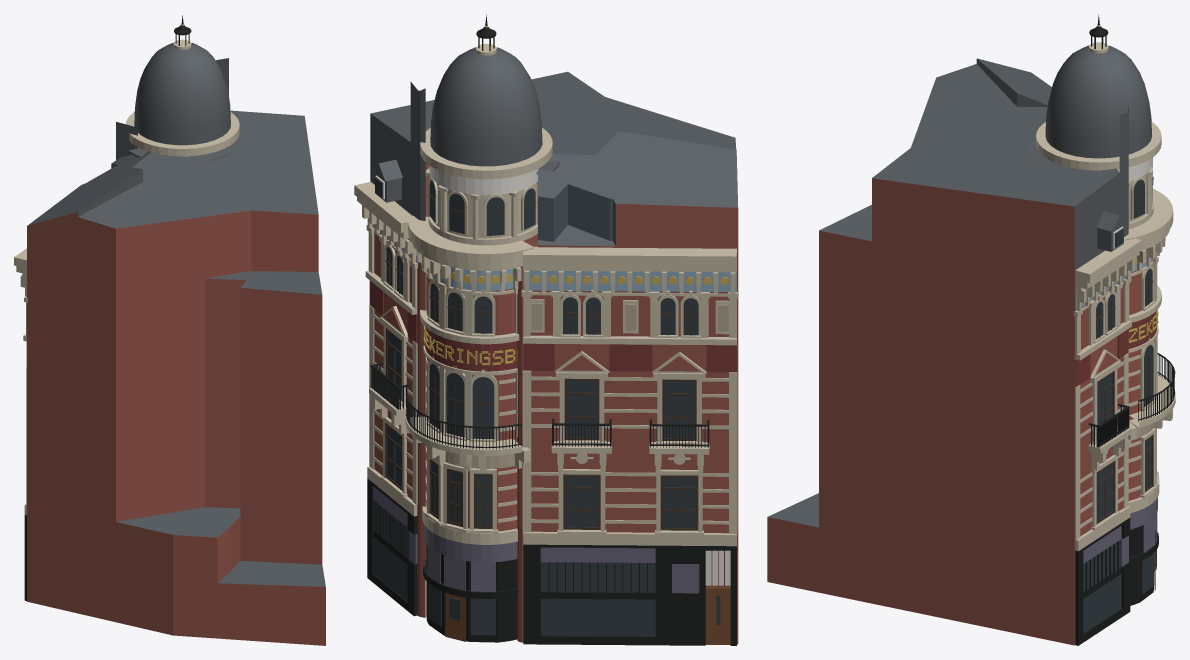
The model's file is koningsplein-1.glb.
The picture shows the model from 3 angles, left to right: view 1: azimuth 30°, elevation 25°; view 2: azimuth 150°, elevation 25°; view 3: azimuth 270°, elevation 25°; orthographic projection. The views are drawn at different scales.
Visible parts, largest first — view 1: koningsplein-1; view 2: koningsplein-1; view 3: koningsplein-1.
Part boxes in pixels (<box>): koningsplein-1: <box>14,15,325,645</box>; koningsplein-1: <box>354,14,738,645</box>; koningsplein-1: <box>767,14,1175,645</box>.
Bounding box in the file's own units: 16.6 × 26.63 × 17.23.
